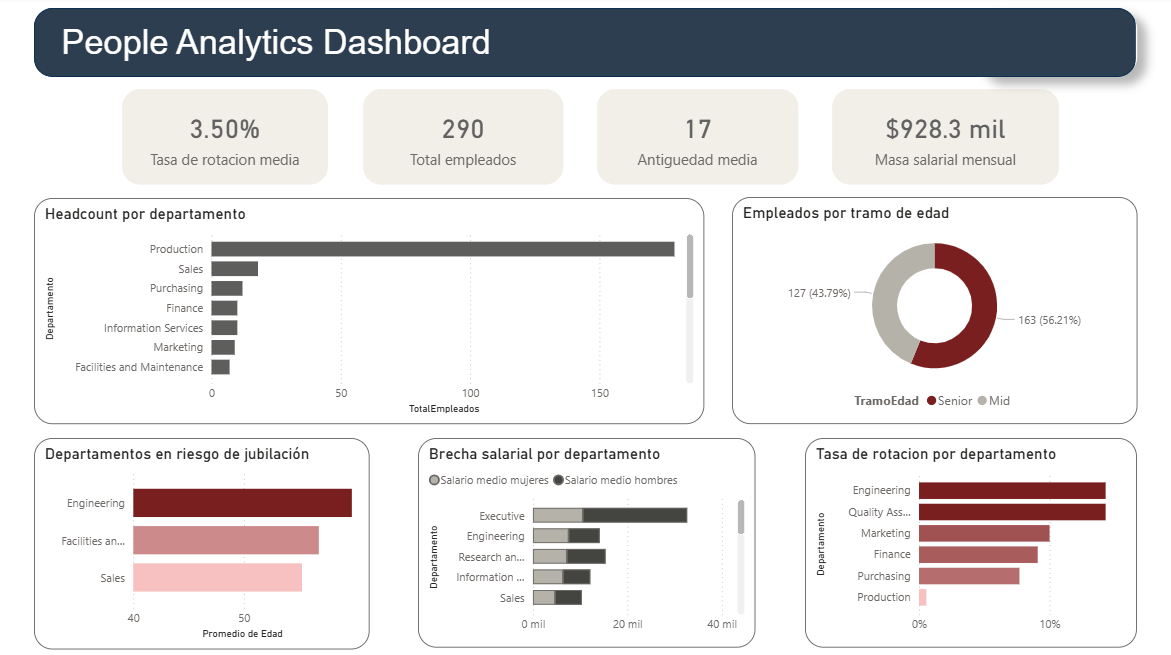

Layout of this report page (visuals, bound fields, positions):
{"tool":"powerbi","page":{"name":"Página 1","canvas":[1280,720],"ordinal":0},"visuals":[{"type":"card","fields":{"Values":["vw_fact_empleados.TotalEmpleados"]},"box":[397.9,100,217.7,104.1],"z":0},{"type":"card","fields":{"Values":["vw_fact_empleados.AntiguedadMedia"]},"box":[652,100,218.7,104.1],"z":1000},{"type":"card","fields":{"Values":["vw_fact_empleados.MasaSalarial"]},"box":[908.2,100,246.8,104.1],"z":2000},{"type":"card","fields":{"Values":["vw_fact_empleados.avg_tasa_rotacion"]},"box":[136.4,100,223.9,104.1],"z":3000},{"type":"barChart","title":"Headcount por departamento","fields":{"Category":["vw_dim_departamento.Departamento"],"Y":["vw_fact_empleados.TotalEmpleados"]},"box":[40.3,218.1,729.3,246.5],"z":4000},{"type":"donutChart","title":"Empleados por tramo de edad","fields":{"Category":["vw_fact_empleados.TramoEdad"],"Y":["vw_fact_empleados.TotalEmpleados"]},"box":[798.8,217.7,440.6,246.8],"z":5000},{"type":"barChart","title":"Departamentos en riesgo de jubilación","fields":{"Y":["Avg(vw_fact_empleados.Edad)"],"Category":["vw_dim_departamento.Departamento"]},"box":[40.3,479.9,364.7,230],"z":6000},{"type":"barChart","title":"Brecha salarial por departamento","fields":{"Category":["vw_dim_departamento.Departamento"],"Y":["vw_fact_empleados.SalarioMedio_F","vw_fact_empleados.SalarioMedio_H"]},"box":[458.1,479.9,367.4,228.1],"z":7000},{"type":"barChart","title":"Tasa de rotacion por departamento","fields":{"Category":["vw_dim_departamento.Departamento"],"Y":["vw_fact_empleados.avg_tasa_rotacion"]},"box":[878.7,479.9,361,228.1],"z":8000},{"type":"slicer","fields":{"Values":["vw_dim_departamento.Departamento"]},"box":[860.4,14.7,177.8,70.6],"z":9000},{"type":"slicer","fields":{"Values":["vw_fact_empleados.Genero"]},"box":[1069,15.2,170.7,69.6],"z":10000},{"type":"shape","box":[40.2,12,1198.4,75],"z":11000}]}

Visuals, with their boxes in screenshot pixels (x1, y1, x2, y2), scaled from the page's 1280x720 canvas onto the 1171x655 screenshot:
card - vw_fact_empleados.TotalEmpleados: crop(364, 91, 563, 186)
card - vw_fact_empleados.AntiguedadMedia: crop(596, 91, 797, 186)
card - vw_fact_empleados.MasaSalarial: crop(831, 91, 1057, 186)
card - vw_fact_empleados.avg_tasa_rotacion: crop(125, 91, 330, 186)
"Headcount por departamento" barChart: crop(37, 198, 704, 423)
"Empleados por tramo de edad" donutChart: crop(731, 198, 1134, 423)
"Departamentos en riesgo de jubilación" barChart: crop(37, 437, 371, 646)
"Brecha salarial por departamento" barChart: crop(419, 437, 755, 644)
"Tasa de rotacion por departamento" barChart: crop(804, 437, 1134, 644)
slicer - vw_dim_departamento.Departamento: crop(787, 13, 950, 78)
slicer - vw_fact_empleados.Genero: crop(978, 14, 1134, 77)
shape: crop(37, 11, 1133, 79)
